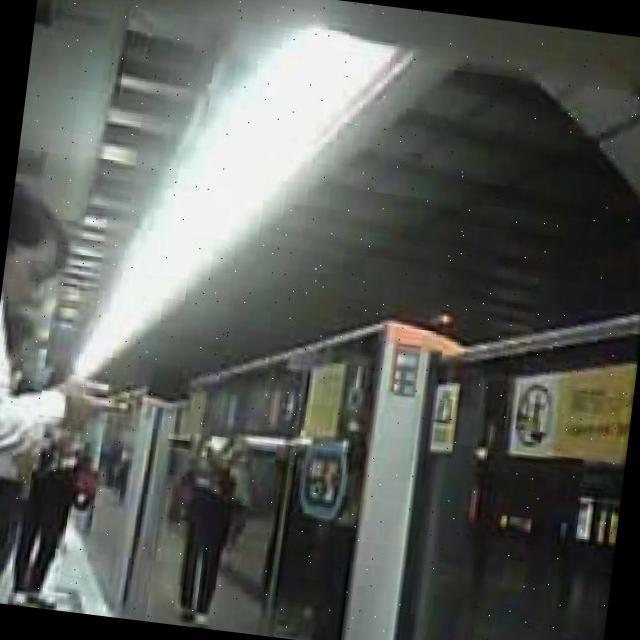person: (0, 177, 138, 614), (170, 428, 250, 630)
